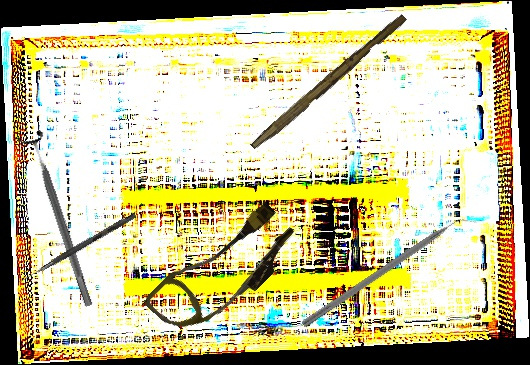Cannula: (142, 188, 305, 354)
Chopper: (301, 209, 478, 337)
Fixation Ring: (16, 129, 102, 311)
Hook Surgical: (18, 211, 137, 286)
Scalpel Handle: (249, 10, 409, 155)
